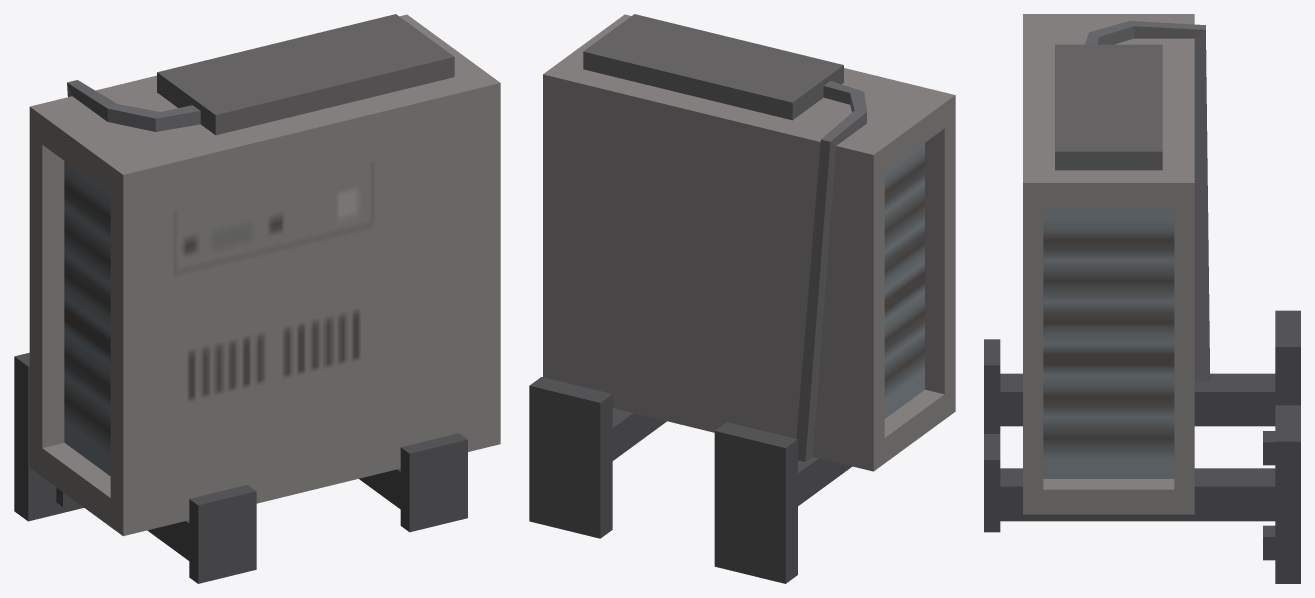
The model's file is SM_Prop_Aircon_01.fbx.
3 views of the same model, side by side, from view 1: azimuth 30°, elevation 25°; view 2: azimuth 150°, elevation 25°; view 3: azimuth 270°, elevation 25° (orthographic). The views are drawn at different scales.
Parts seen in each view (by area): view 1: SM_Prop_Aircon_01; view 2: SM_Prop_Aircon_01; view 3: SM_Prop_Aircon_01.
Part boxes in pixels (x1,y1,x2,y2): SM_Prop_Aircon_01: [14, 14, 500, 583]; SM_Prop_Aircon_01: [529, 14, 955, 583]; SM_Prop_Aircon_01: [984, 14, 1300, 583].
Size of the model in its own units: 82.29 by 99.52 by 65.14.
Materials: 1 (1 with a texture image).
